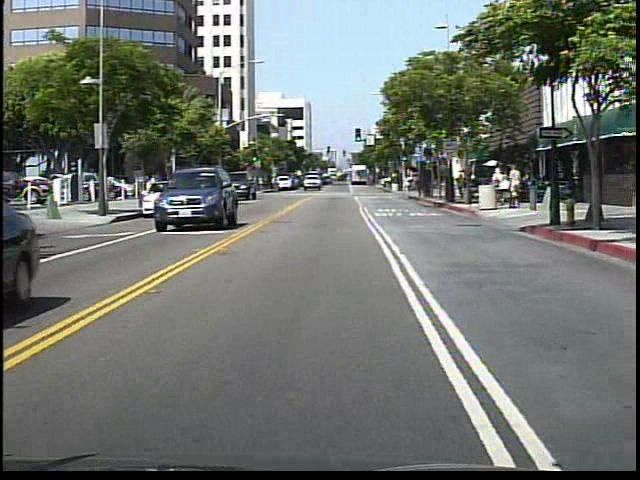person: (455, 173, 469, 201)
